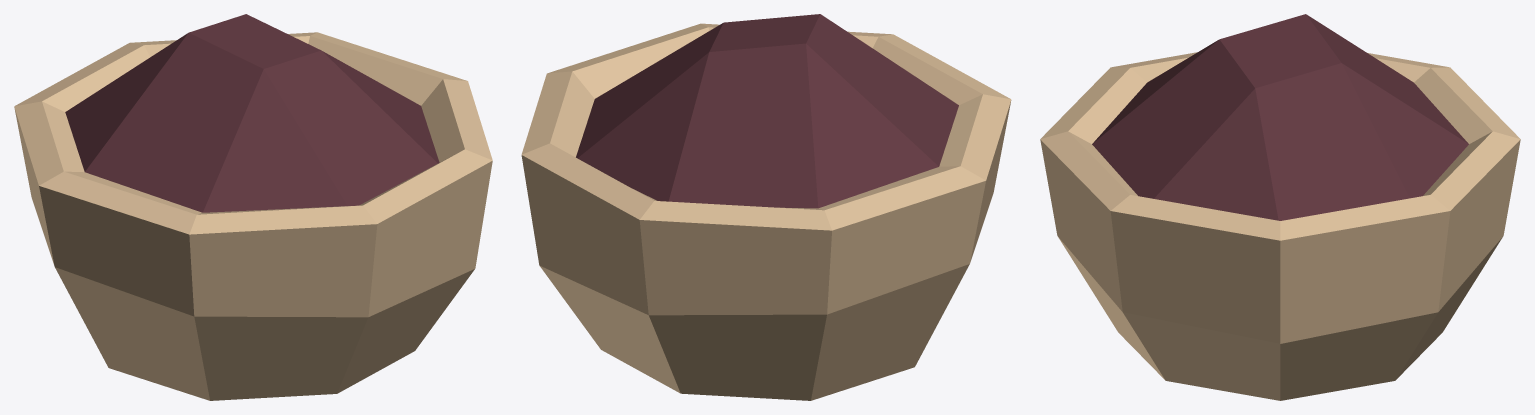
The model's file is egypt-bowl-spice-full.fbx.
The picture shows the model from 3 angles, left to right: view 1: azimuth 30°, elevation 25°; view 2: azimuth 150°, elevation 25°; view 3: azimuth 270°, elevation 25°; orthographic projection. The views are drawn at different scales.
Visible parts, largest first — view 1: egypt-bowl-spice-full; view 2: egypt-bowl-spice-full; view 3: egypt-bowl-spice-full.
Boxes of the visible parts, bbox=[...] form: egypt-bowl-spice-full: bbox=[14, 14, 492, 400]; egypt-bowl-spice-full: bbox=[521, 14, 1011, 400]; egypt-bowl-spice-full: bbox=[1040, 14, 1520, 400].
Bounding box in the file's own units: 0.533 × 0.3597 × 0.533.
